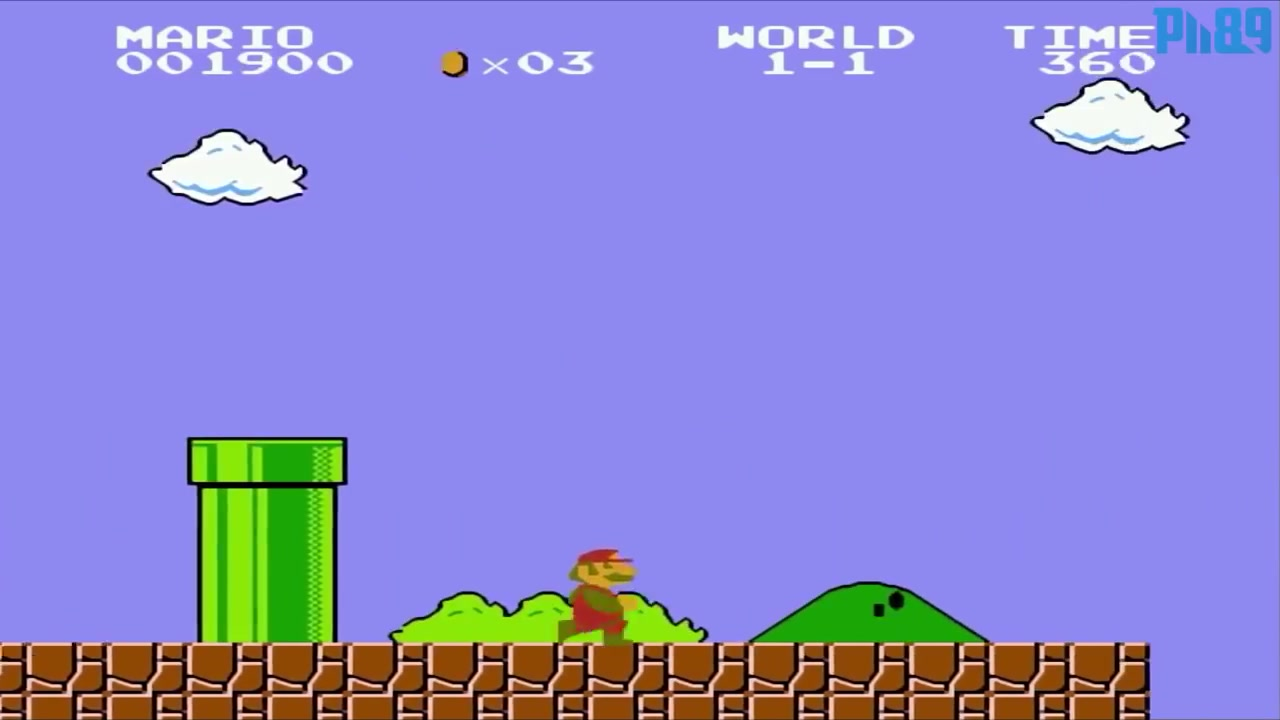mario: (549, 542, 640, 648)
